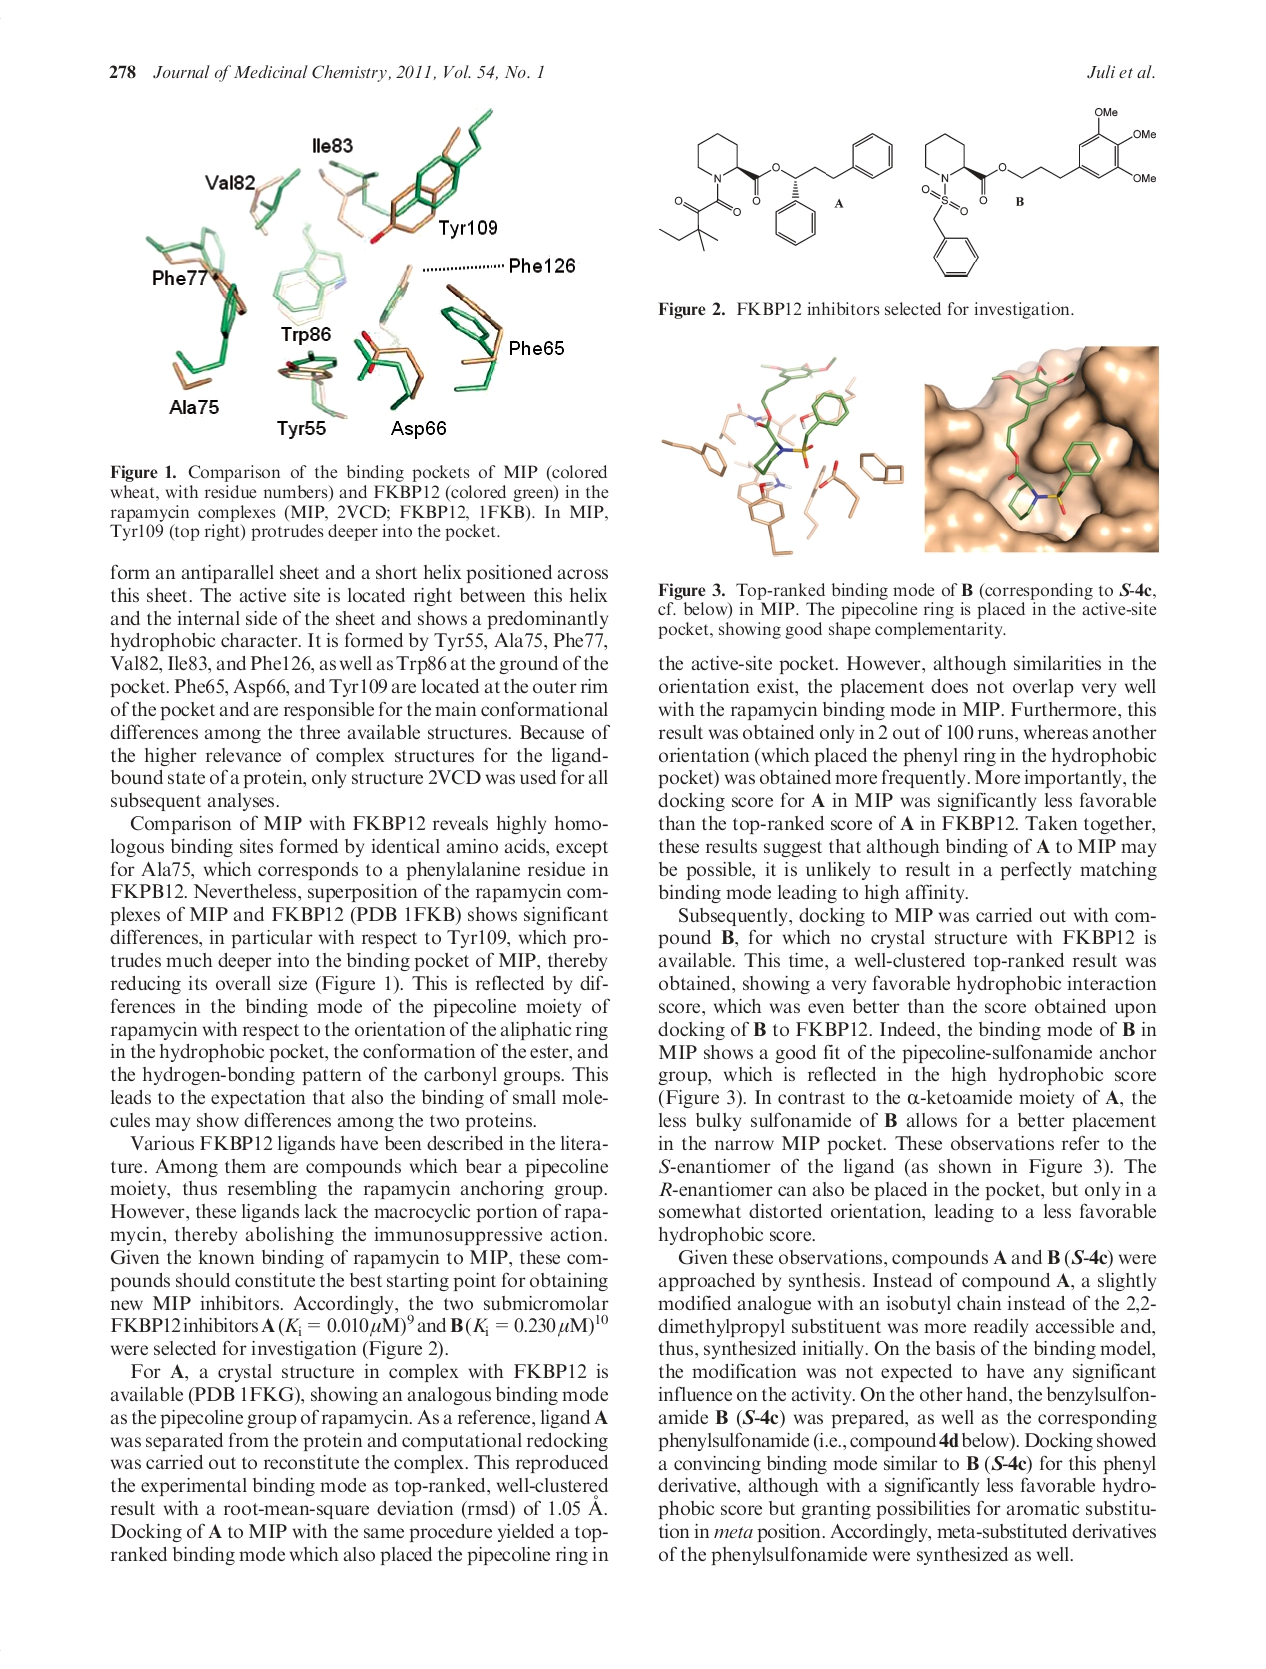exist_molecular: (914, 102, 1165, 287), (658, 126, 898, 257)
